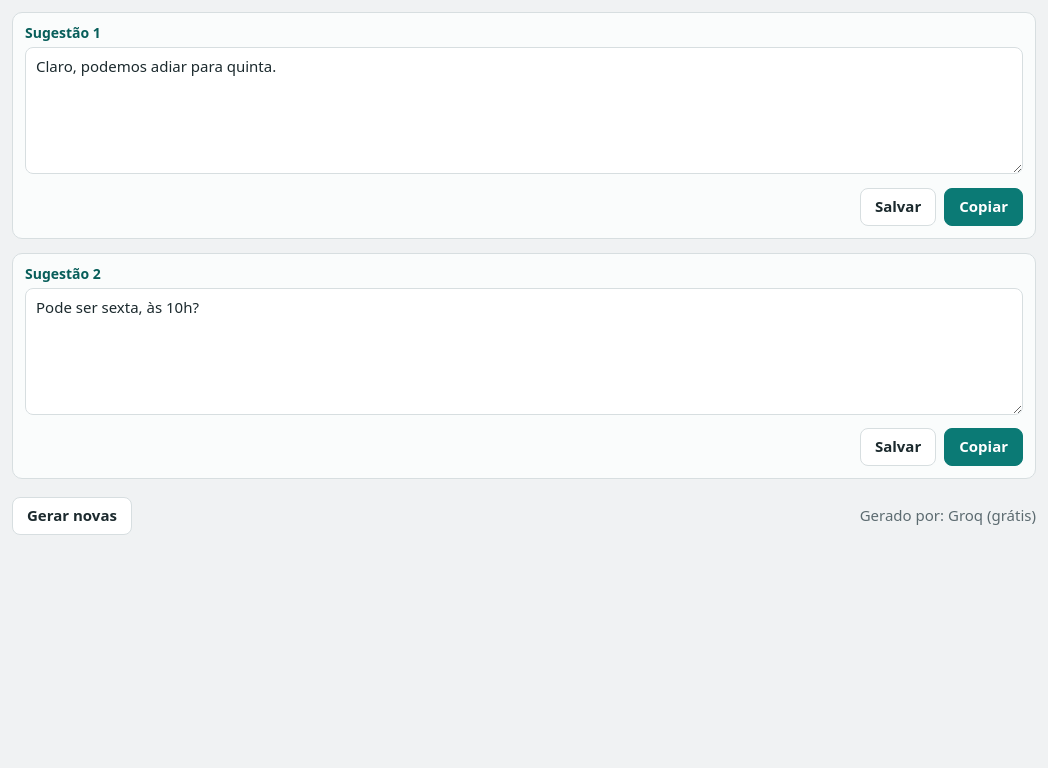
Test case: Suggestions › Salvar grava o texto gerado e o editado, e vira "Salvo ✓"
Replace the text in the text box labelled "Sugestão 1" with "Claro! Quinta às 15h serve?": (524, 111) [25, 47, 1023, 174]
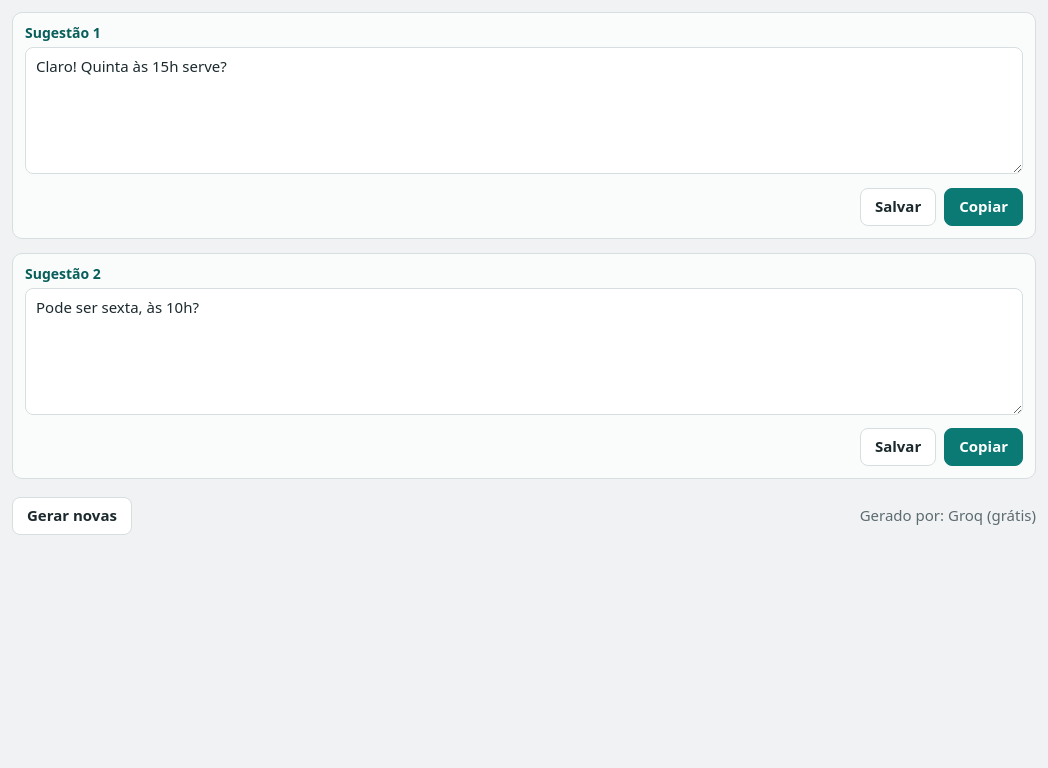
Click the 1st button "Salvar": (898, 207) [860, 188, 936, 226]
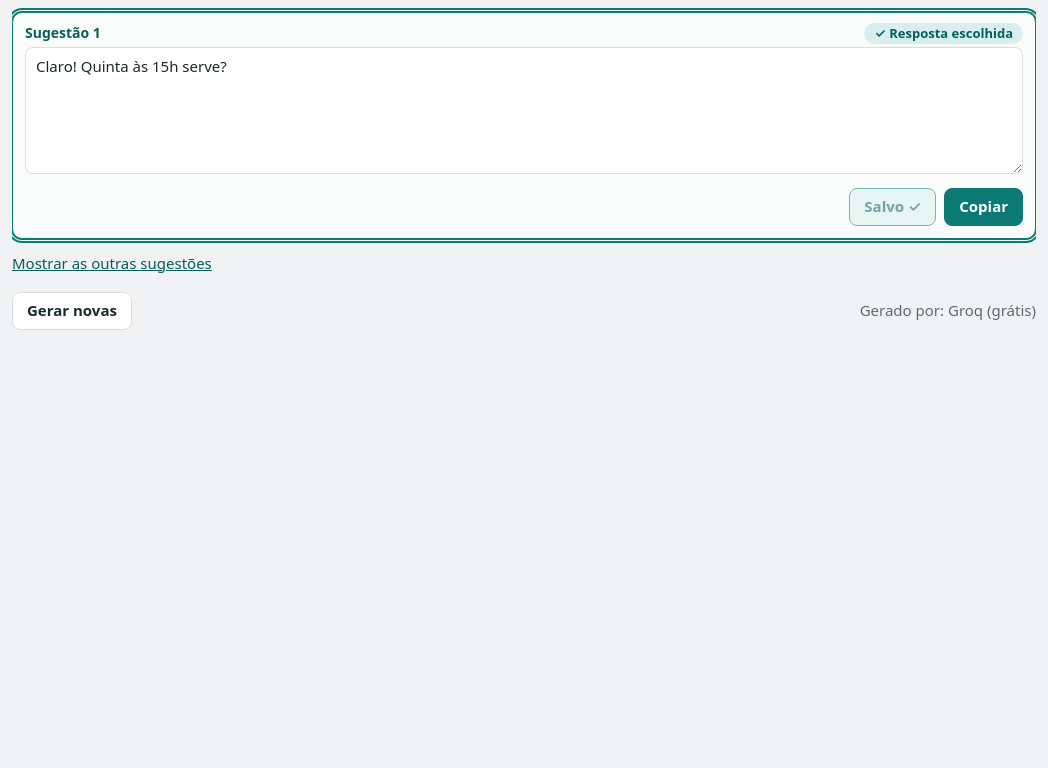
Expected: the button "Salvo ✓" is shown, [849, 188, 936, 226]
